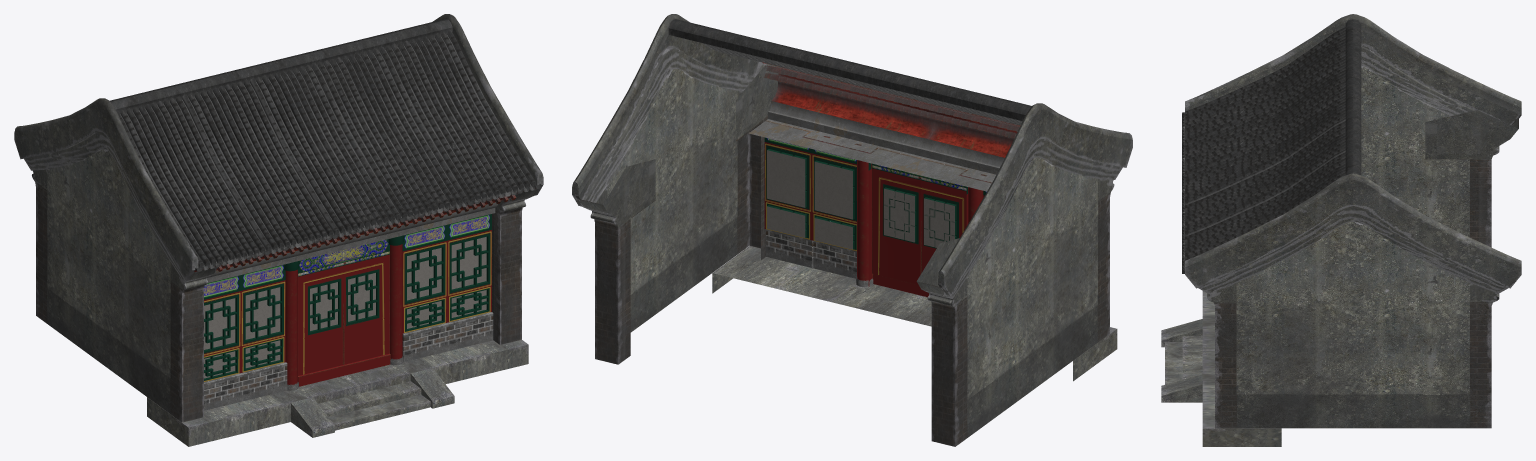
The model's file is hutong_house_a.fbx.
The picture shows the model from 3 angles, left to right: view 1: azimuth 30°, elevation 25°; view 2: azimuth 150°, elevation 25°; view 3: azimuth 270°, elevation 25°; orthographic projection. The views are drawn at different scales.
Visible parts, largest first — view 1: hutong_house_a; view 2: hutong_house_a; view 3: hutong_house_a.
Part boxes in pixels (box(x1,y1,x2,y2)): hutong_house_a: box(14, 14, 543, 446); hutong_house_a: box(572, 14, 1132, 446); hutong_house_a: box(1161, 14, 1521, 446).
Size of the model in its own units: 855 by 675 by 803.
3 materials, 3 textured.
